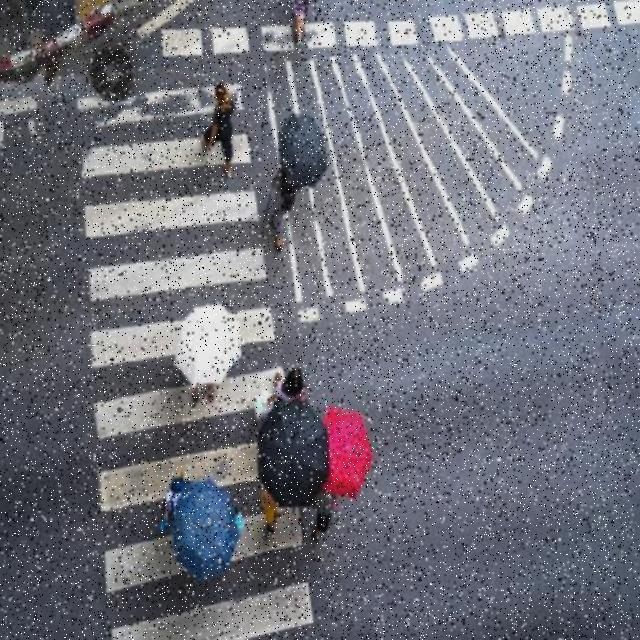Pedestrian crosswalk: (64, 59, 350, 638)
